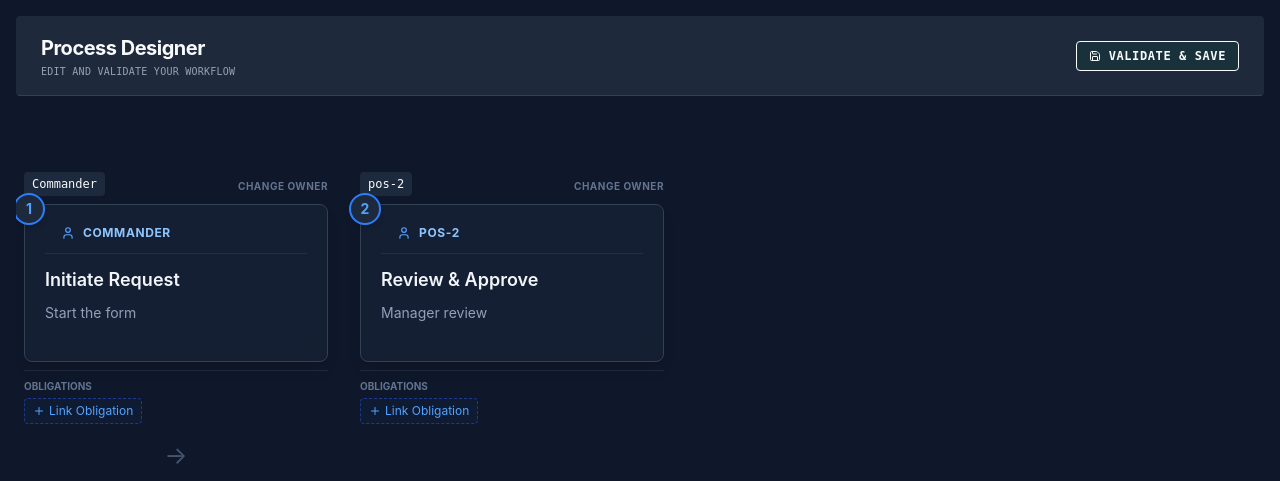
SwimlaneEditor › allows assigning a step to an agent
This screenshot has width=1280, height=481.
Click the 1st button "Change Owner".
click(283, 187)  # box [238,179,328,194]
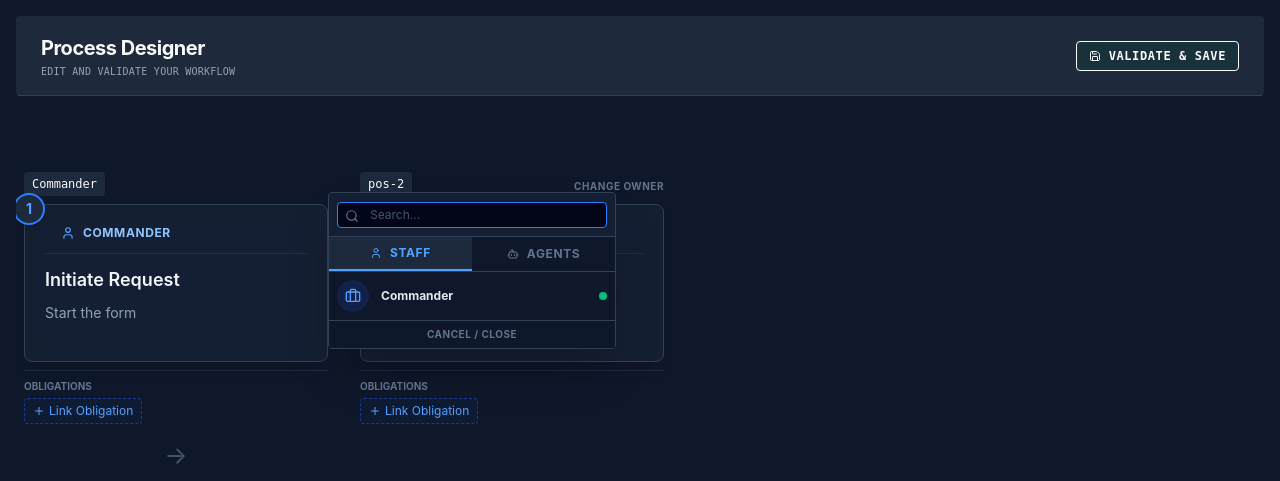
// Now we have the OwnerPicker open
Click the button "Agents".
click(544, 254)  # box [472,237,615,271]
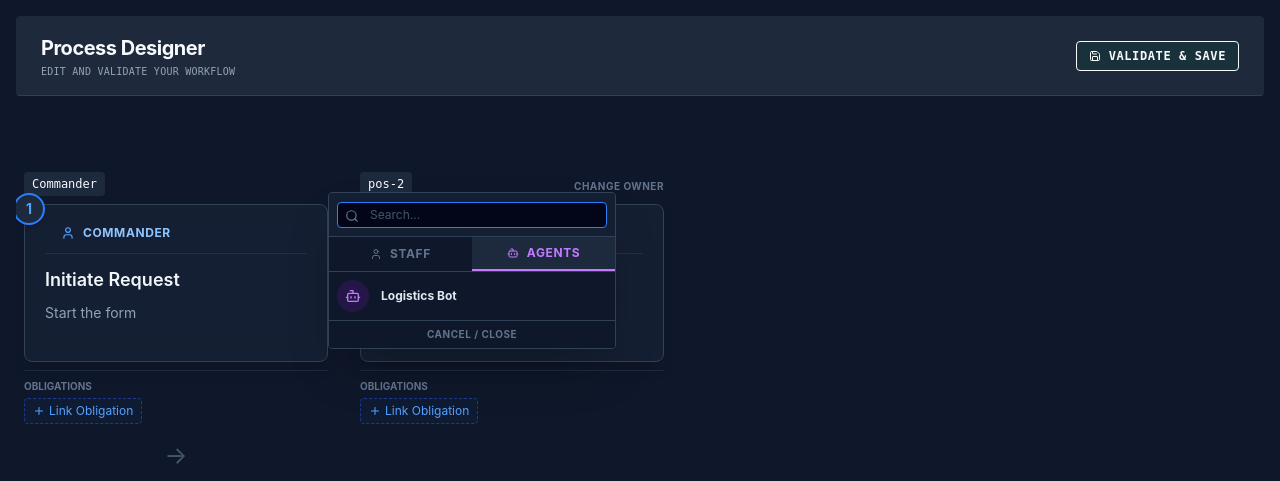
expect the text "Logistics Bot" is shown: met, box [381,288,457,304]
Click the button "Logistics Bot".
click(353, 296)  # box [329,272,615,320]
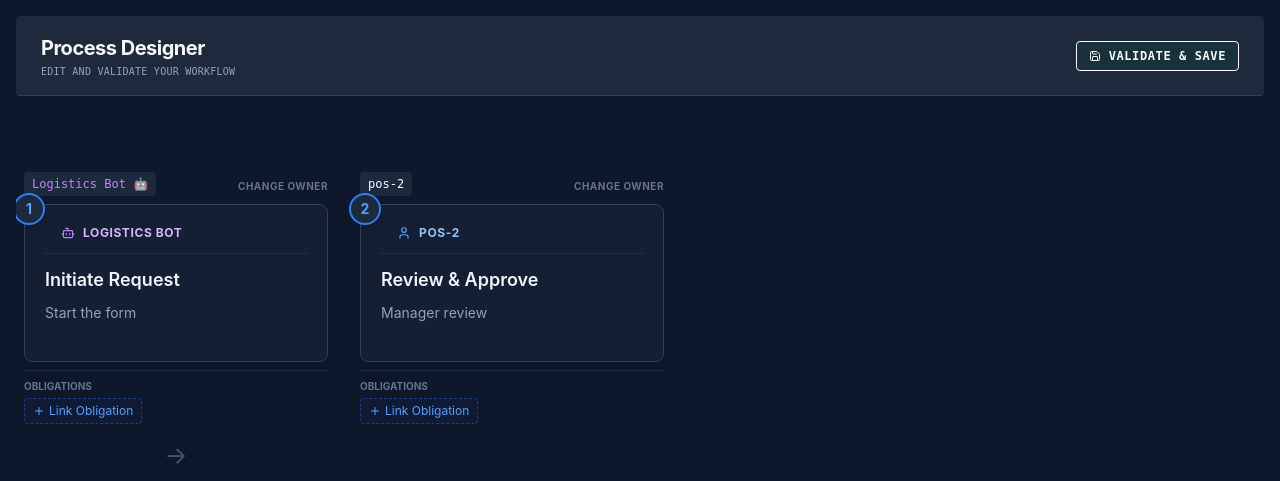
expect the text "Logistics Bot" is shown: met, box [83,225,182,241]
